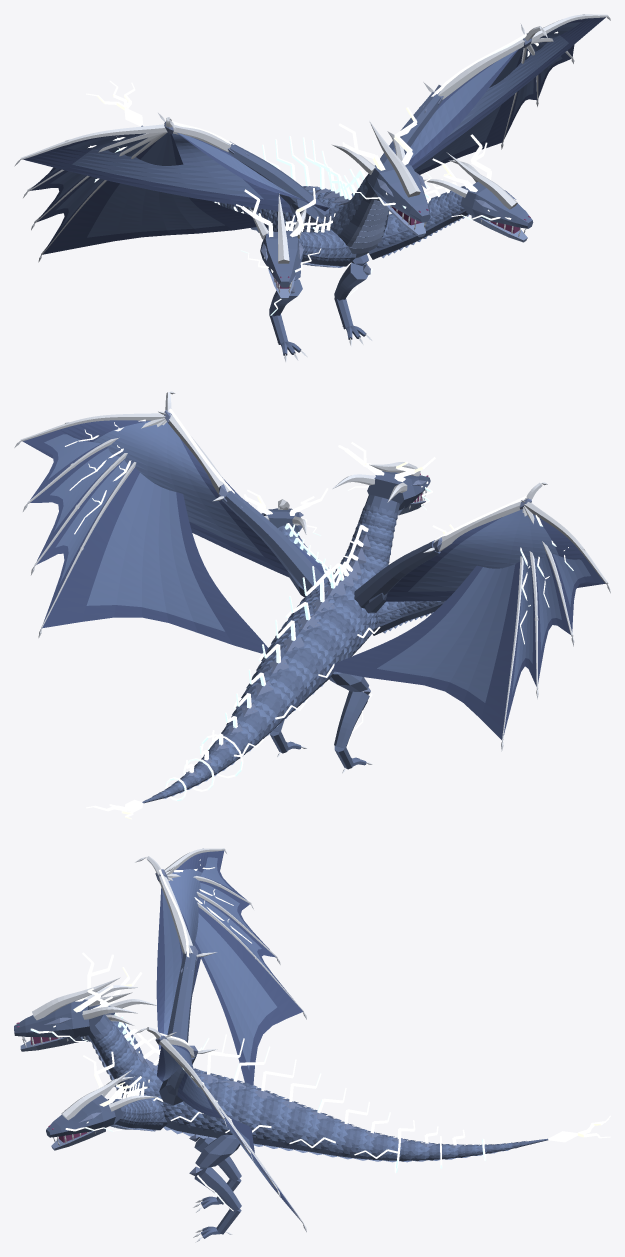
Rendered from Wyverne_Tempete_v3.glb.
3 views of the same model, one above another, from view 1: azimuth 30°, elevation 25°; view 2: azimuth 150°, elevation 25°; view 3: azimuth 270°, elevation 25° (orthographic). The views are drawn at different scales.
Visible parts, largest first — view 1: Membrane, Body, Membrane2, Horns, Bolt, Bolt2, Belly, Scales, Plates; view 2: Membrane, Membrane2, Body, Horns, Scales, Bolt, Plates, Bolt2; view 3: Body, Membrane, Membrane2, Horns, Scales, Bolt, Bolt2, Belly, Plates.
Part boxes in pixels (box(x1,y1,x2,y2)): Membrane: box(49, 22, 581, 237); Body: box(141, 92, 533, 355); Membrane2: box(23, 17, 605, 254); Horns: box(14, 14, 610, 361); Bolt: box(88, 31, 558, 315); Bolt2: box(86, 80, 491, 237); Belly: box(251, 193, 527, 300); Scales: box(213, 180, 461, 261); Plates: box(164, 33, 531, 293); Membrane: box(44, 421, 590, 702); Membrane2: box(23, 420, 605, 739); Body: box(142, 471, 445, 803); Horns: box(14, 391, 610, 773); Scales: box(158, 510, 441, 797); Bolt: box(65, 408, 573, 801); Plates: box(164, 410, 531, 776); Bolt2: box(86, 442, 454, 819); Body: box(14, 953, 548, 1238); Membrane: box(162, 857, 276, 1188); Membrane2: box(156, 850, 303, 1219); Horns: box(22, 848, 306, 1242); Scales: box(93, 1023, 513, 1161); Bolt: box(30, 859, 486, 1211); Bolt2: box(73, 952, 610, 1142); Belly: box(20, 1035, 510, 1162); Plates: box(44, 869, 462, 1176).
Size of the model in its own units: 91.67 by 43.85 by 84.33.
